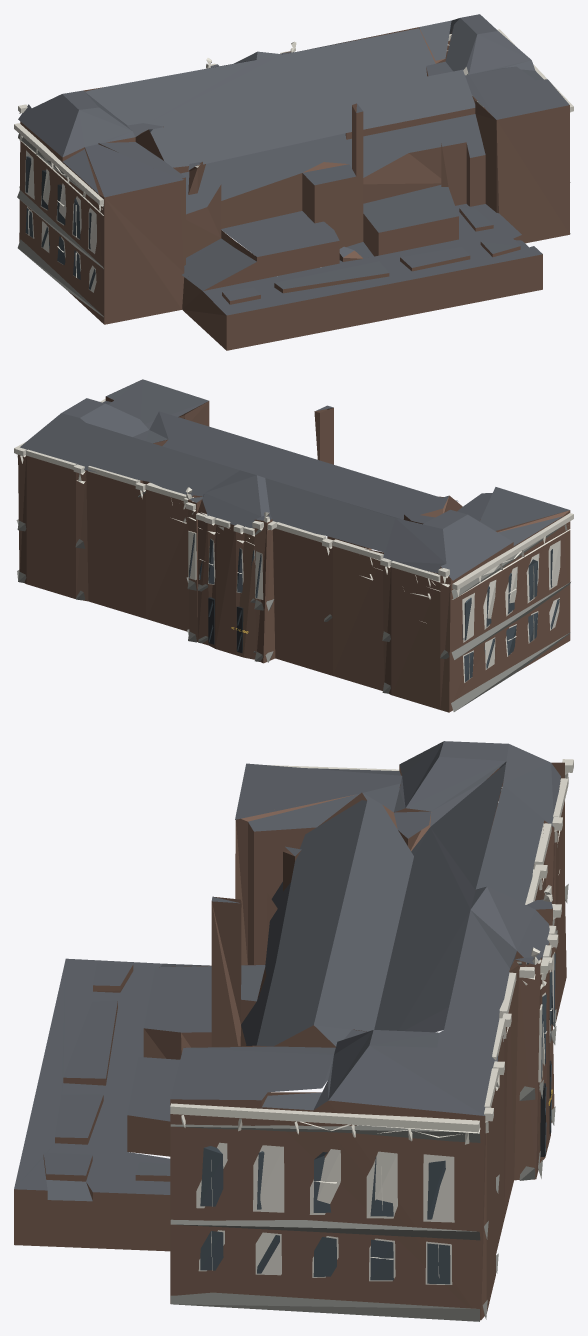
Rendered from de-ateliers.lod1.glb.
The picture shows the model from 3 angles, top to bottom: view 1: azimuth 30°, elevation 25°; view 2: azimuth 150°, elevation 25°; view 3: azimuth 270°, elevation 25°; orthographic projection. The views are drawn at different scales.
Parts seen in each view (by area): view 1: de-ateliers; view 2: de-ateliers; view 3: de-ateliers.
Boxes of the visible parts, <box> form: de-ateliers: <box>14,14,573,350</box>; de-ateliers: <box>14,379,573,712</box>; de-ateliers: <box>14,741,573,1321</box>.
Bounding box in the file's own units: 63.3 × 20.62 × 41.15.
